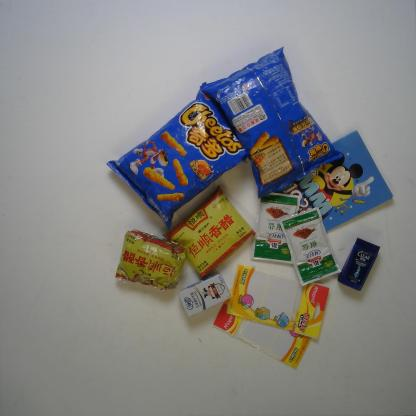Milk: (176, 271, 233, 319)
Personal Hygiene: (335, 236, 382, 293)
Puffed Food: (103, 79, 252, 233), (197, 45, 345, 200)
Seasoner: (161, 183, 257, 282), (277, 204, 343, 288), (113, 228, 188, 293), (249, 191, 301, 266)
Stationery: (272, 128, 396, 233), (211, 279, 320, 371), (224, 261, 332, 342)
